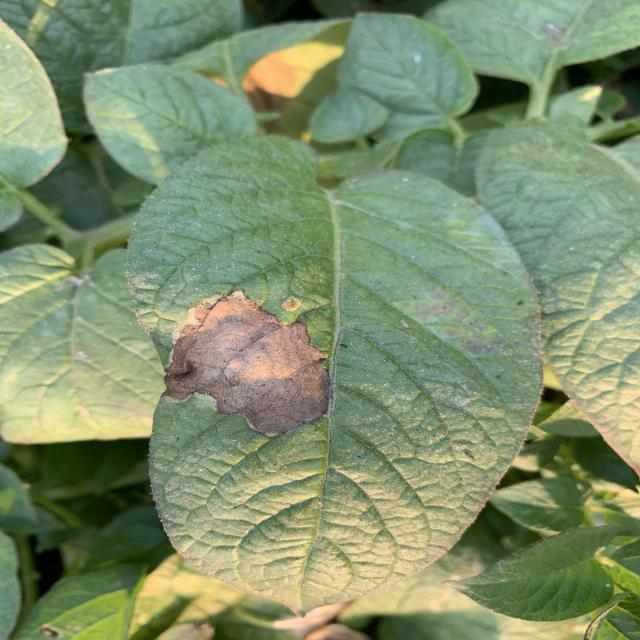lateblight: (165, 291, 328, 436)
